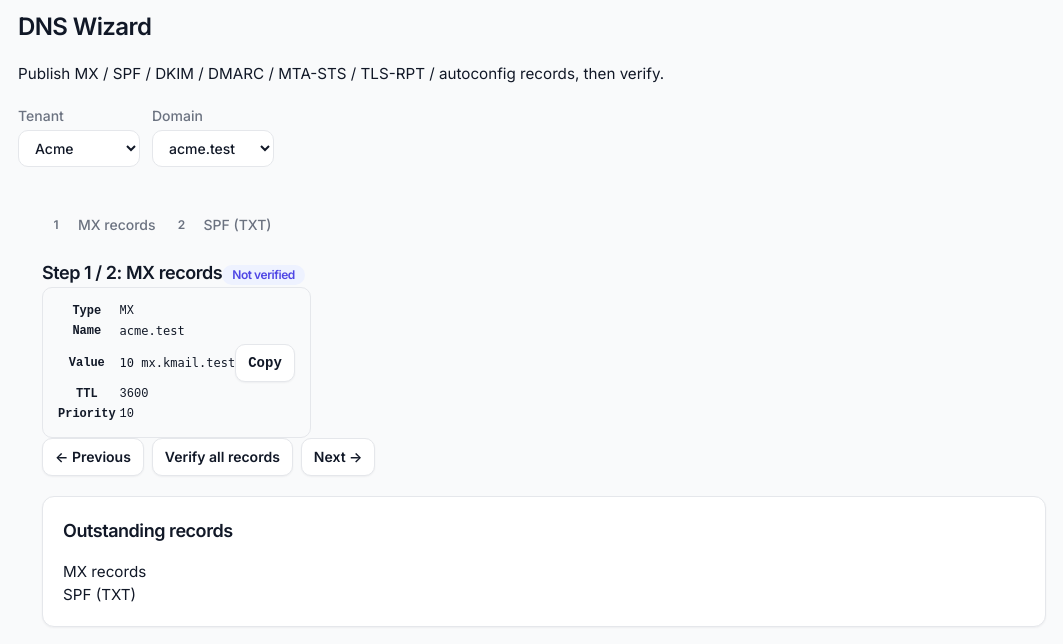
Test: <DnsWizard /> › re-fetches status on Verify and reflects a fully-verified domain
Select "Acme" in the dropdown labelled "Tenant". click: (79,148)
box: [18, 130, 140, 167]
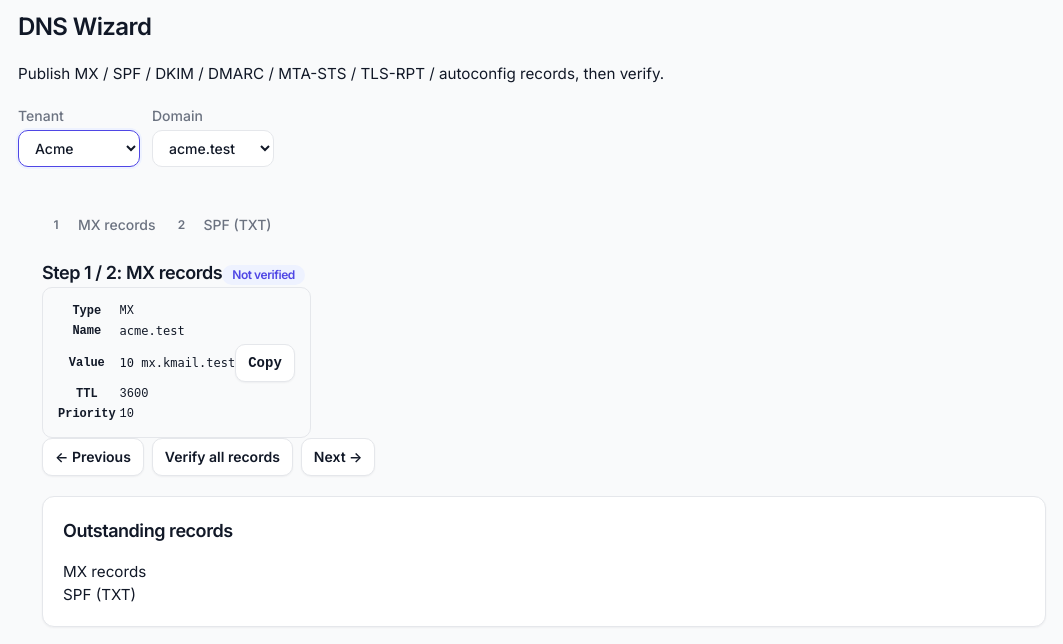
Select "acme.test" in the dropdown labelled "Domain". click: (213,148)
box: [152, 130, 274, 167]
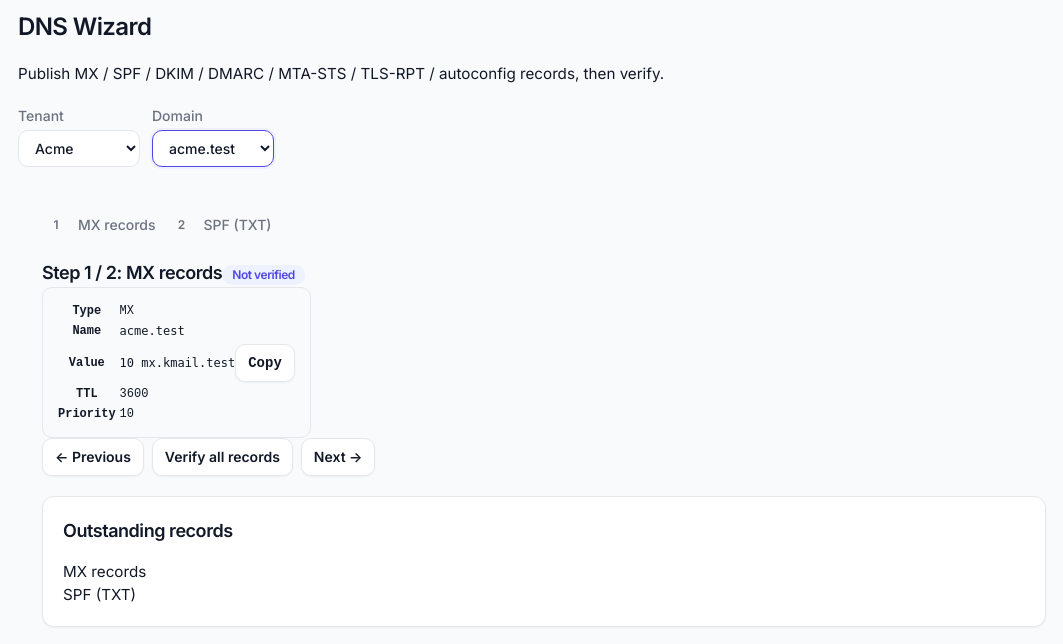
Expected: the heading "Outstanding records" is shown, [63, 520, 233, 541]
Click the button "Verify all records". click: (222,457)
box: [152, 438, 293, 476]
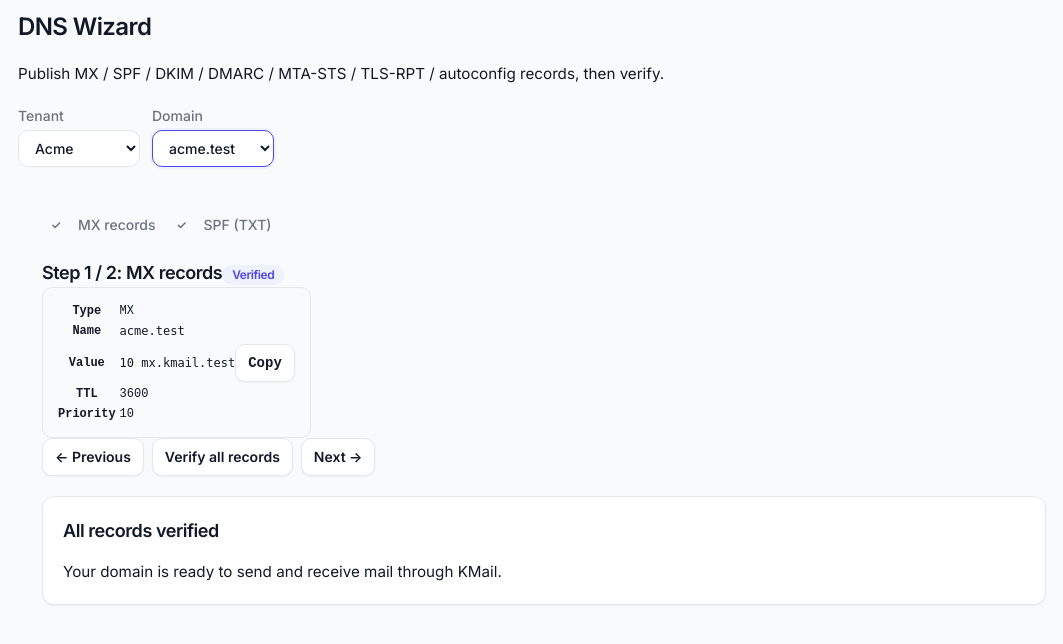
Now the heading "All records verified" is shown, box [63, 520, 219, 541]
